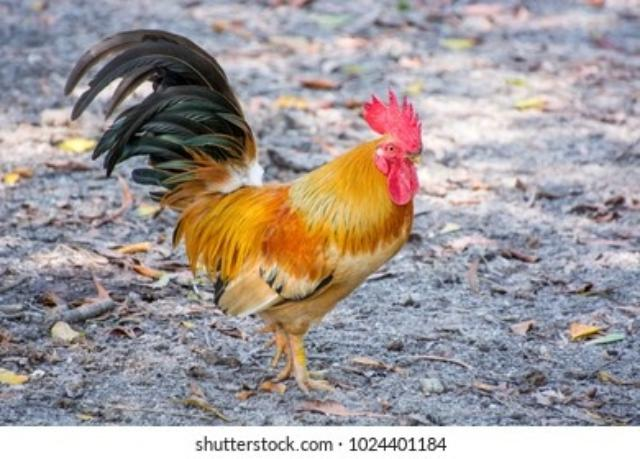Chicken: (66, 28, 424, 394)
